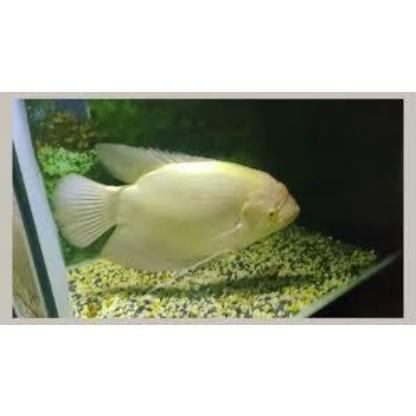gurame: (52, 146, 302, 272)
